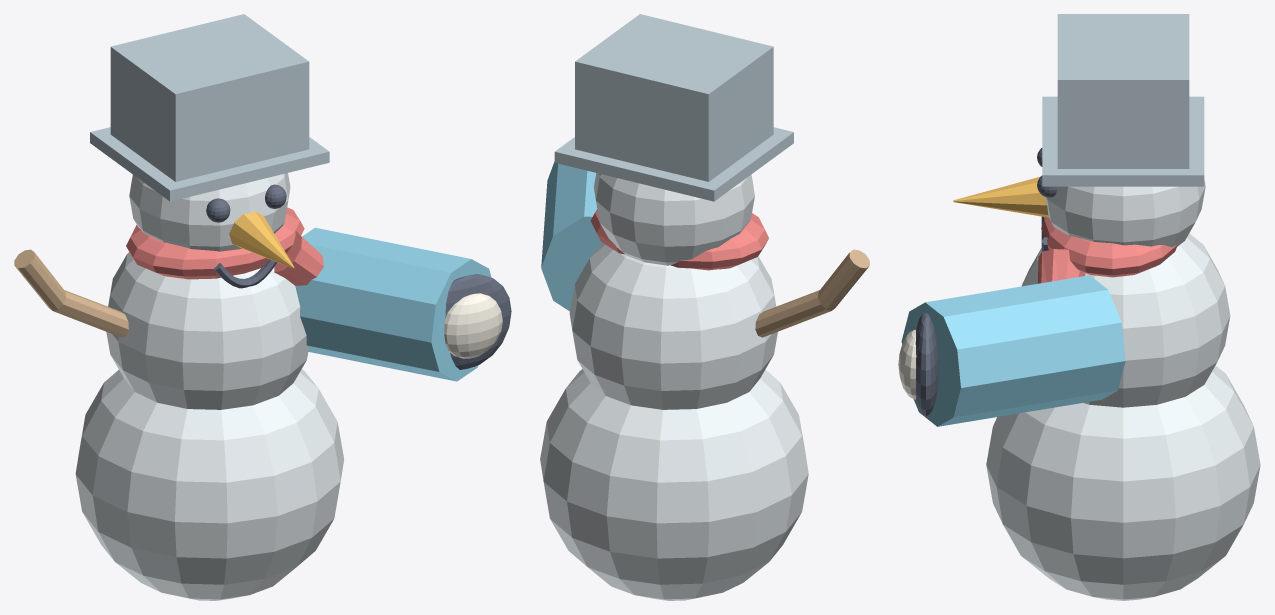
File: snowgun.glb
The picture shows the model from 3 angles, left to right: view 1: azimuth 30°, elevation 25°; view 2: azimuth 150°, elevation 25°; view 3: azimuth 270°, elevation 25°; orthographic projection.
Visible parts, largest first — view 1: snowball (×3), bucket-hat, cannon-barrel, bucket-brim, neck-scarf, stick-arm, loaded-snowball, cannon-dark-bore, carrot-nose, scarf-tail, smile; view 2: snowball (×3), bucket-hat, cannon-barrel, bucket-brim, stick-arm, neck-scarf; view 3: snowball (×3), cannon-barrel, bucket-hat, bucket-brim, neck-scarf, cannon-dark-bore, carrot-nose, scarf-tail, loaded-snowball.
Boxes of the visible parts, box(x1,y1,x2,y2) form: snowball (×3): box(75, 173, 344, 600); bucket-hat: box(110, 14, 309, 181); cannon-barrel: box(295, 227, 491, 381); bucket-brim: box(90, 127, 329, 201); neck-scarf: box(126, 207, 304, 279); stick-arm: box(14, 249, 128, 337); loaded-snowball: box(444, 293, 502, 358); cannon-dark-bore: box(445, 274, 511, 369); carrot-nose: box(229, 211, 294, 268); scarf-tail: box(274, 231, 323, 285); smile: box(214, 259, 276, 288); snowball (×3): box(540, 173, 808, 600); bucket-hat: box(575, 14, 773, 181); cannon-barrel: box(541, 161, 602, 311); bucket-brim: box(554, 127, 793, 201); stick-arm: box(755, 249, 869, 337); neck-scarf: box(590, 209, 768, 270); snowball (×3): box(986, 179, 1260, 600); cannon-barrel: box(901, 275, 1125, 426); bucket-hat: box(1057, 14, 1189, 168); bucket-brim: box(1042, 96, 1204, 186); neck-scarf: box(1041, 217, 1177, 277); cannon-dark-bore: box(915, 313, 938, 416); carrot-nose: box(953, 176, 1048, 217); scarf-tail: box(1038, 249, 1085, 283); loaded-snowball: box(898, 329, 916, 399).
Bounding box in the file's own units: 1.71 × 2.18 × 1.32.
